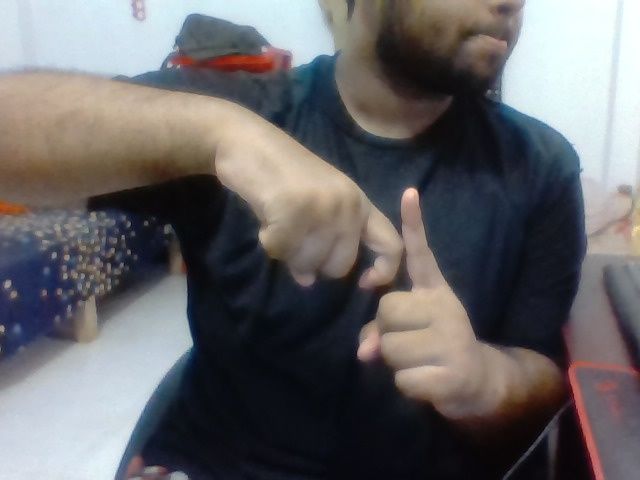K: (249, 107, 498, 429)
